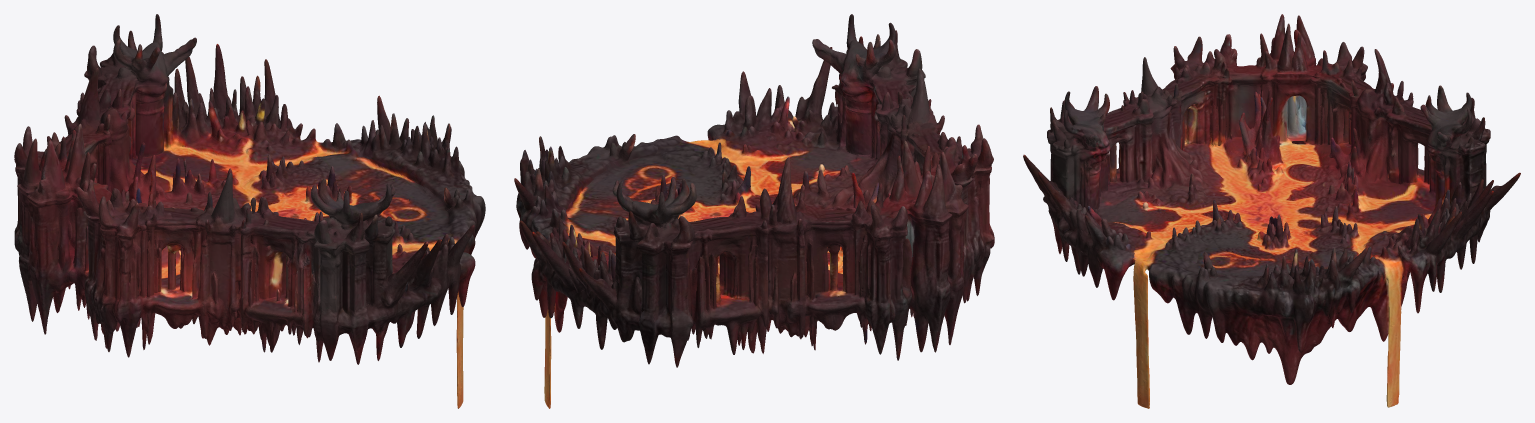
File: abyss-cavern.glb
The picture shows the model from 3 angles, left to right: view 1: azimuth 30°, elevation 25°; view 2: azimuth 150°, elevation 25°; view 3: azimuth 270°, elevation 25°; orthographic projection. The views are drawn at different scales.
Visible parts, largest first — view 1: tripo_node_3cd3a5e6-8615-47dc-b22c-dfc24b2d54d2; view 2: tripo_node_3cd3a5e6-8615-47dc-b22c-dfc24b2d54d2; view 3: tripo_node_3cd3a5e6-8615-47dc-b22c-dfc24b2d54d2.
Part boxes in pixels (box(x1,y1,x2,y2)): tripo_node_3cd3a5e6-8615-47dc-b22c-dfc24b2d54d2: box(14, 14, 485, 408); tripo_node_3cd3a5e6-8615-47dc-b22c-dfc24b2d54d2: box(514, 14, 994, 408); tripo_node_3cd3a5e6-8615-47dc-b22c-dfc24b2d54d2: box(1023, 14, 1520, 408).
Size of the model in its own units: 28830 by 18849 by 32766.
Materials: 1 (1 with a texture image).
